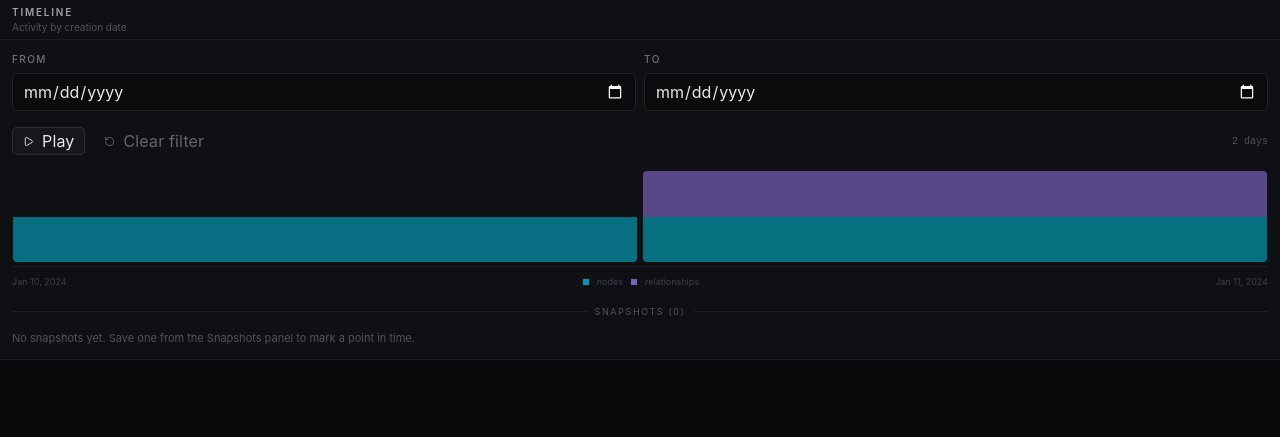
TimelinePanel › clears the selected day filter
This screenshot has width=1280, height=437.
Click the button titled "Jan 11, 2024: 1 nodes, 1 relationships" at [955, 216], box [642,171,1268,262]
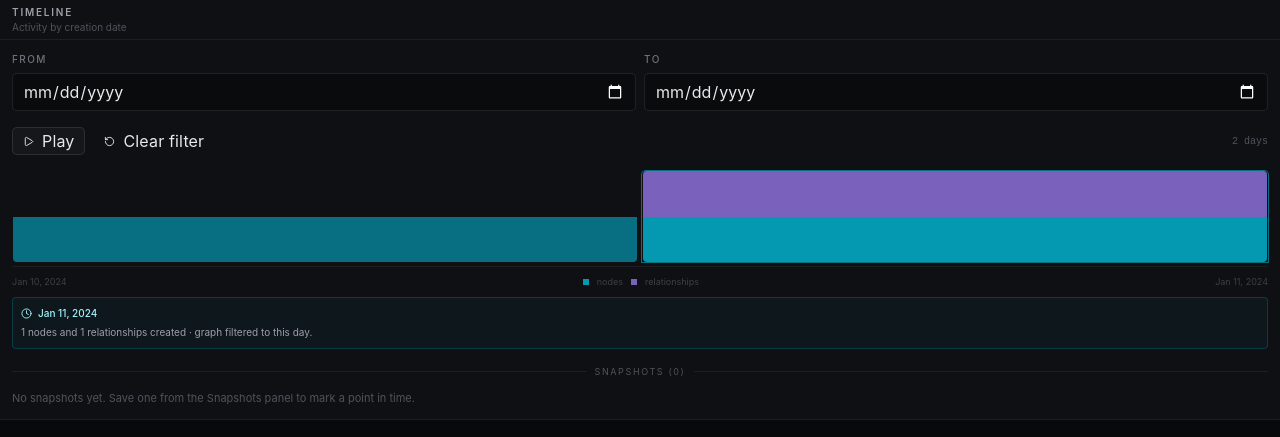
Click the button "Clear filter" at [154, 141], box [94,127,215,155]
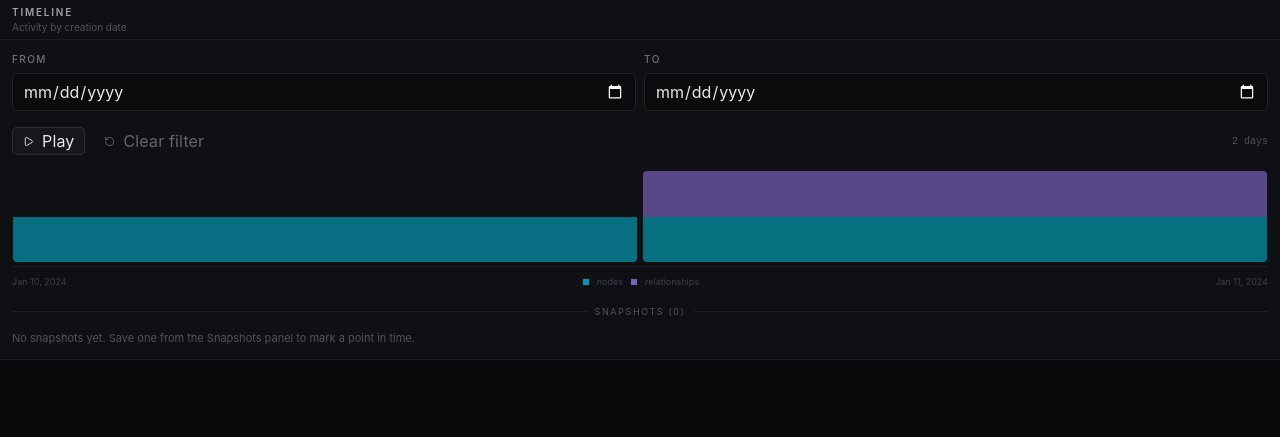
Result: the text "graph filtered to this day" is gone
Result: the button "Clear filter" is disabled at [94,127,215,155]
